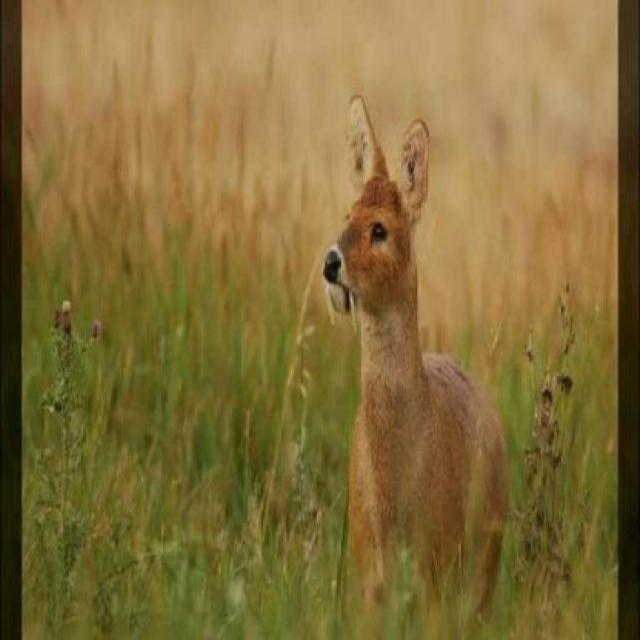deer: (320, 66, 505, 639)
